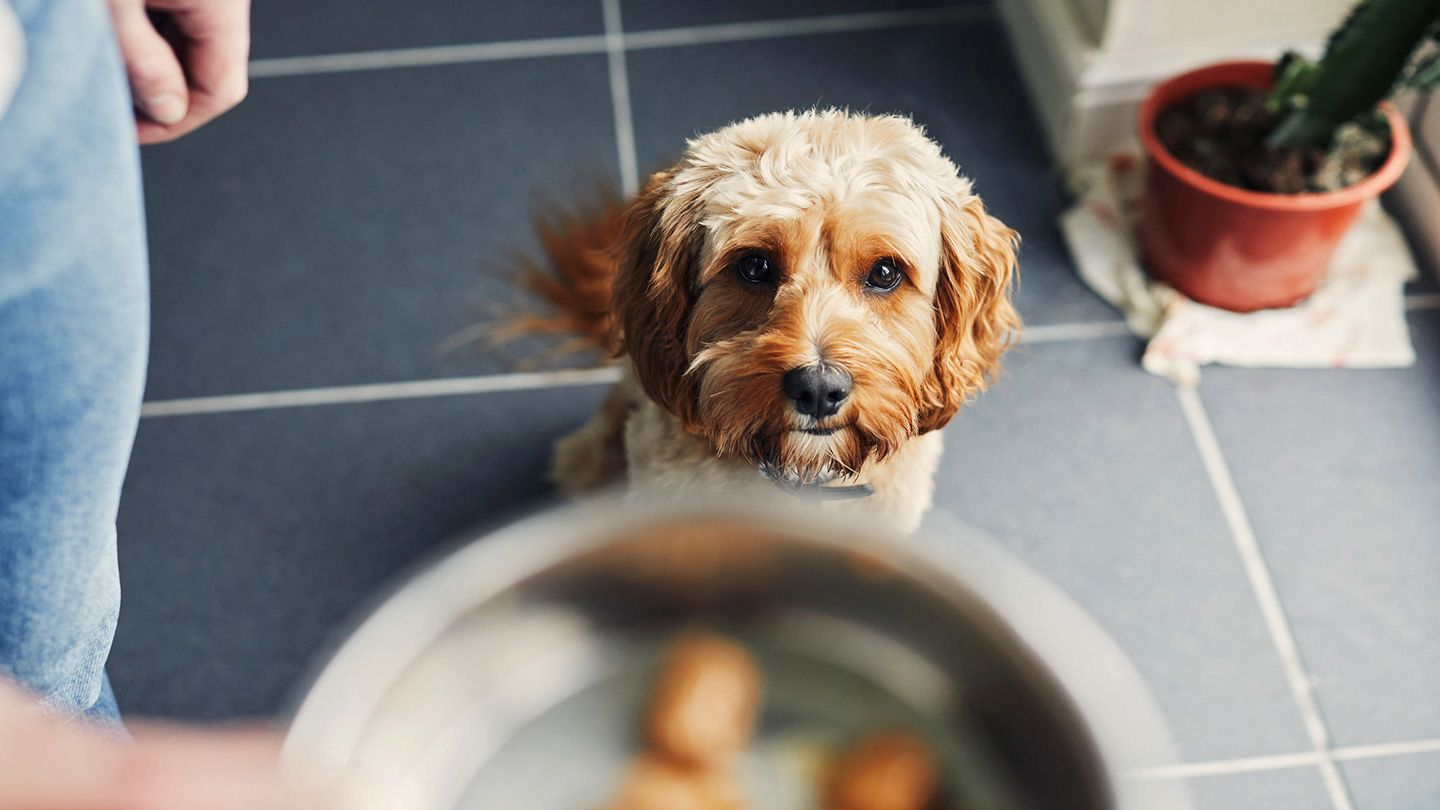pet: (660, 127, 1011, 486)
